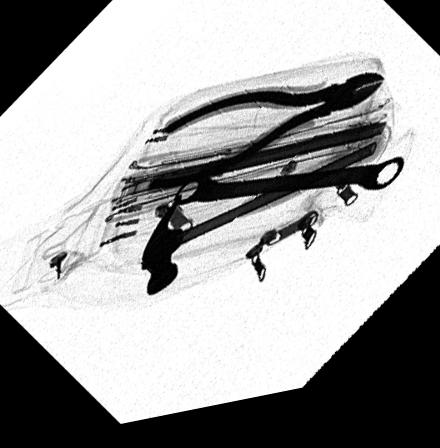Hammer: (133, 142, 383, 304)
Pliers: (142, 89, 389, 199)
Wrench: (171, 174, 406, 214)
